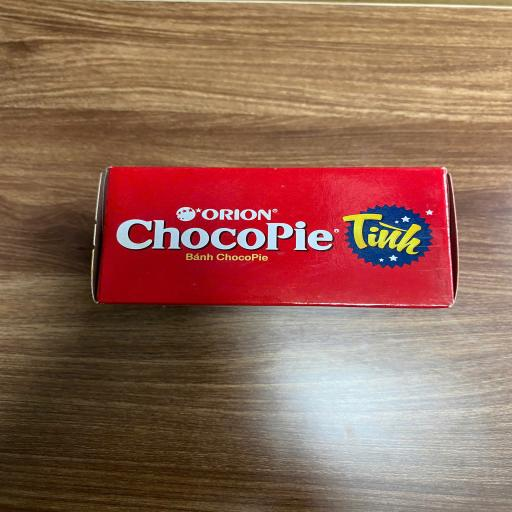chocopie: (100, 164, 460, 310)
